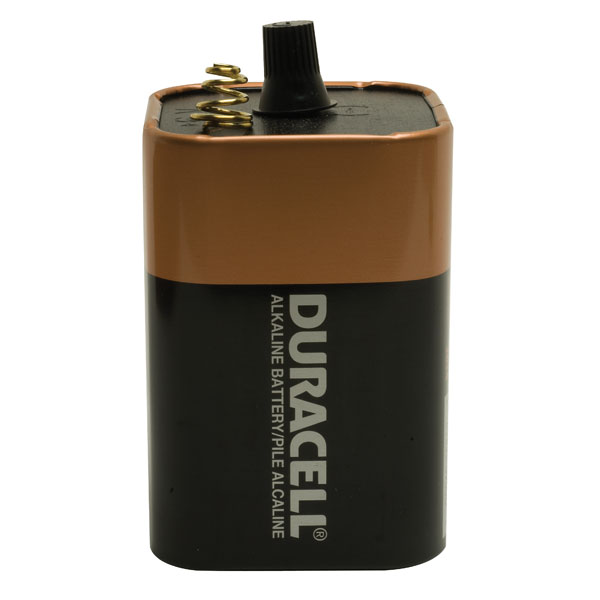6V: (126, 15, 458, 579)
